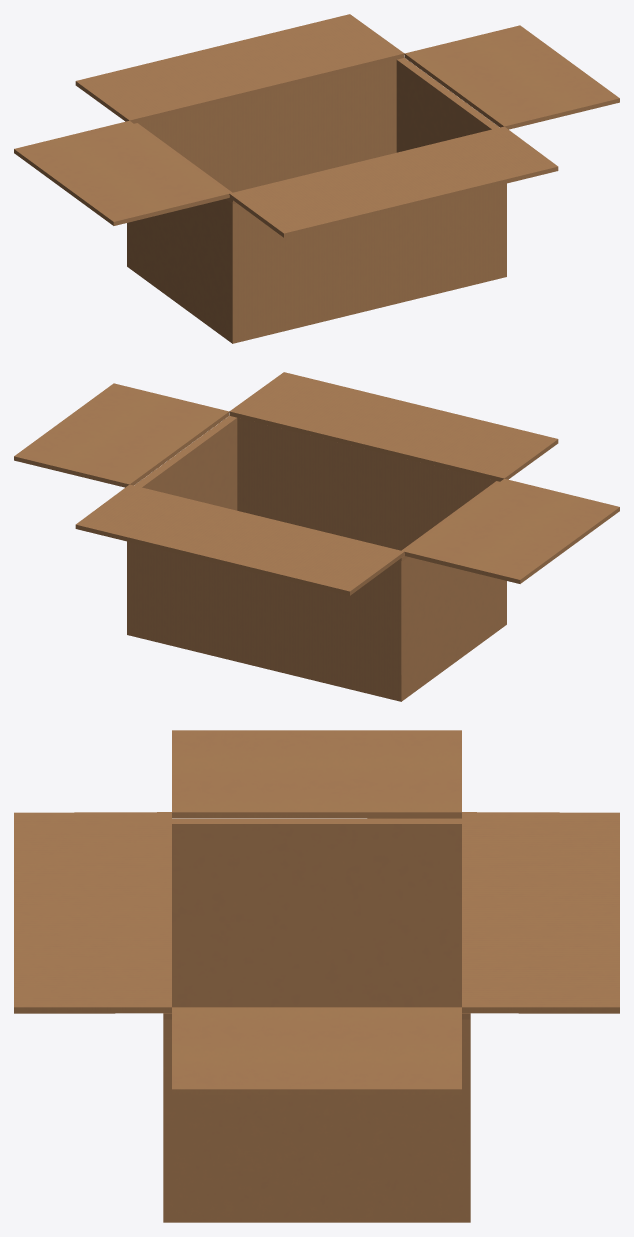
The picture shows the model from 3 angles, top to bottom: view 1: azimuth 30°, elevation 25°; view 2: azimuth 150°, elevation 25°; view 3: azimuth 270°, elevation 25°; orthographic projection. The views are drawn at different scales.
Parts seen in each view (by area): view 1: Box, BoxLid2, BoxLid4, BoxLid3, BoxLid1; view 2: Box, BoxLid4, BoxLid2, BoxLid3, BoxLid1; view 3: Box, BoxLid4, BoxLid2, BoxLid3, BoxLid1.
Part boxes in pixels (x1,y1,x2,y2): Box: [127, 58, 506, 343]; BoxLid2: [229, 126, 558, 237]; BoxLid4: [75, 14, 404, 123]; BoxLid3: [14, 120, 229, 225]; BoxLid1: [404, 25, 619, 129]; Box: [127, 416, 506, 701]; BoxLid4: [75, 484, 404, 595]; BoxLid2: [229, 372, 558, 481]; BoxLid3: [404, 478, 619, 583]; BoxLid1: [14, 383, 229, 487]; Box: [163, 818, 470, 1222]; BoxLid4: [462, 812, 619, 1013]; BoxLid2: [14, 812, 171, 1013]; BoxLid3: [172, 730, 461, 818]; BoxLid1: [172, 1007, 461, 1095].
Size of the model in its own units: 14.55 by 4.07 by 10.37.
4 materials, 3 textured.
